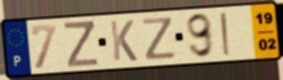7: (29, 22, 59, 70)
9: (184, 12, 216, 60)
I: (218, 11, 233, 58)
K: (108, 19, 139, 63)
Z: (62, 20, 101, 69), (140, 16, 177, 62)
